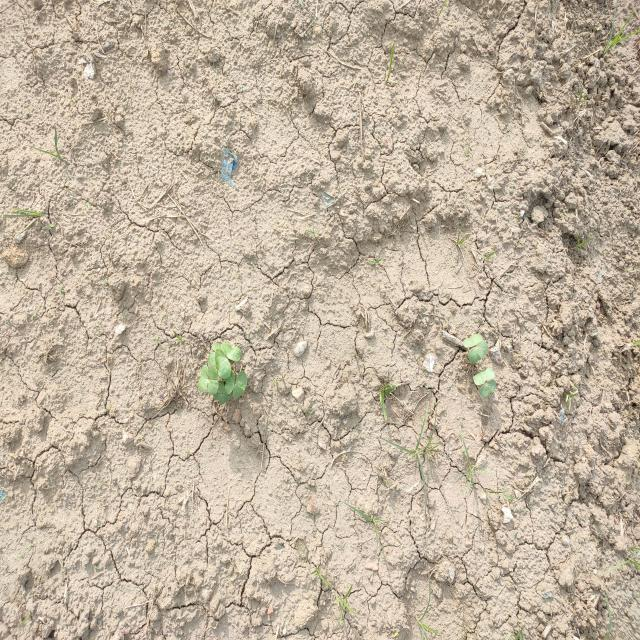seedling: (215, 348, 231, 379), (468, 340, 488, 363), (233, 371, 248, 400), (473, 367, 495, 385), (221, 343, 241, 362), (207, 364, 219, 395), (198, 365, 209, 392), (479, 380, 496, 397), (463, 334, 483, 348), (225, 370, 235, 394), (219, 390, 233, 405), (214, 381, 224, 400), (207, 352, 216, 367), (212, 343, 222, 352), (225, 379, 226, 384)
